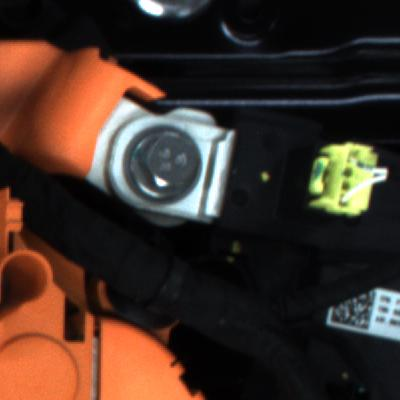nut_b: (130, 120, 202, 203)
